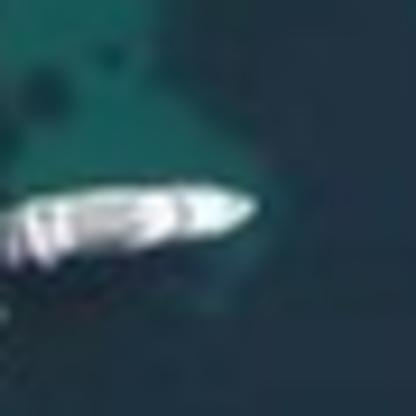ship: (0, 170, 269, 281)
